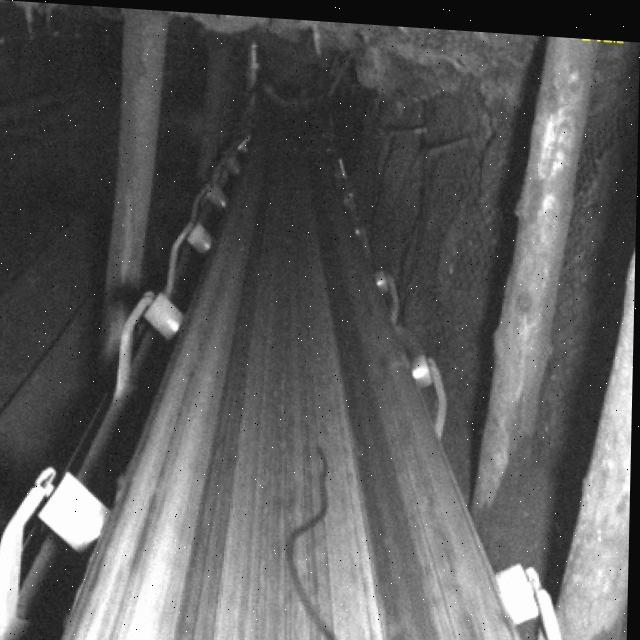bolt: (288, 441, 363, 640)
